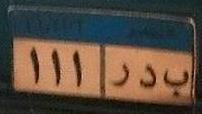1: (25, 45, 42, 86), (70, 50, 85, 89), (49, 49, 62, 88)
baa: (161, 65, 190, 101)
daal: (138, 62, 157, 96)
raa: (111, 62, 130, 91)
